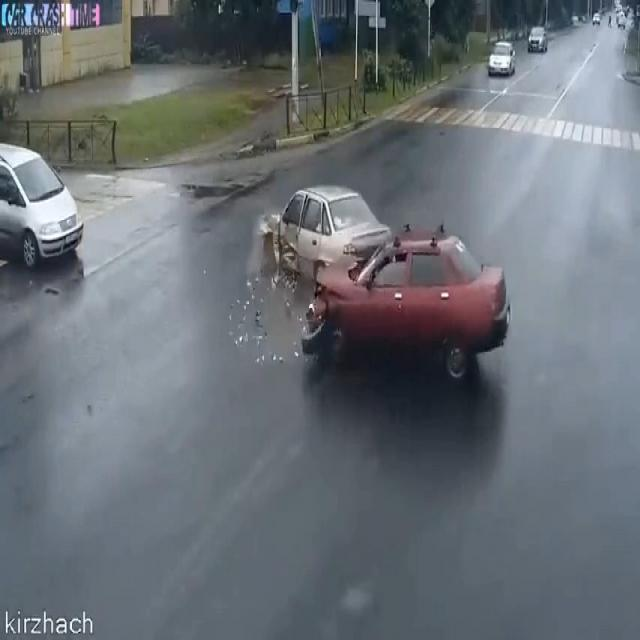Accident: (242, 147, 530, 427)
